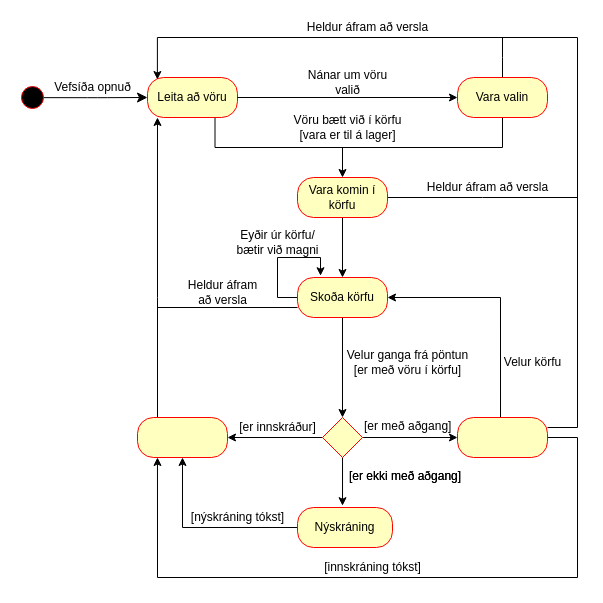
The diagram is 603 pixels wide and 603 high, and some of its shapes have lost their labels. Each missing label, with the centre of its shape:
"Ganga frá pöntun" belongs at pixel 182 437.
"Innskráning" belongs at pixel 502 437.
